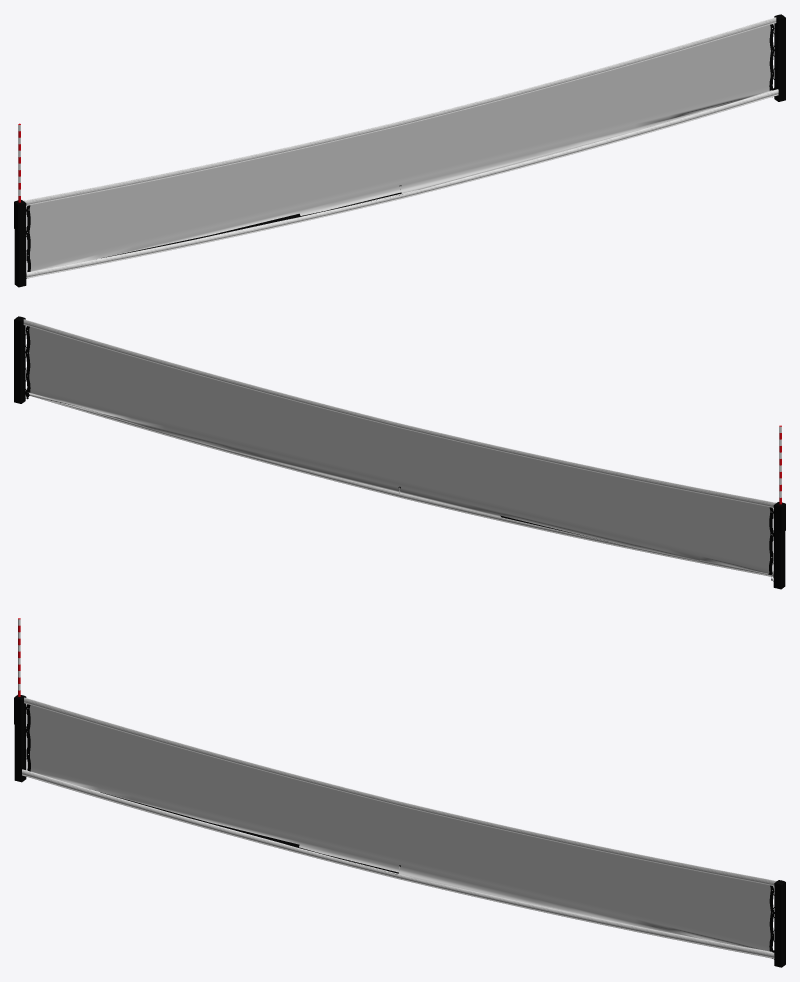
Rendered from Antena.fbx.
3 views of the same model, one above another, from view 1: azimuth 30°, elevation 25°; view 2: azimuth 150°, elevation 25°; view 3: azimuth 330°, elevation 25° (orthographic).
Visible parts, largest first — view 1: Net, Net.001, Net.002; view 2: Net, Net.002, Net.001; view 3: Net, Net.001, Net.002.
Part boxes in pixels (x1,y1,x2,y2): Net: (14, 14, 785, 287); Net.001: (26, 89, 778, 278); Net.002: (24, 17, 776, 205); Net: (14, 316, 785, 589); Net.002: (23, 319, 775, 507); Net.001: (25, 388, 773, 576); Net: (14, 695, 785, 967); Net.001: (22, 769, 774, 958); Net.002: (24, 697, 776, 886).
Bounding box in the file's own units: 1035 × 213 × 10.69.
